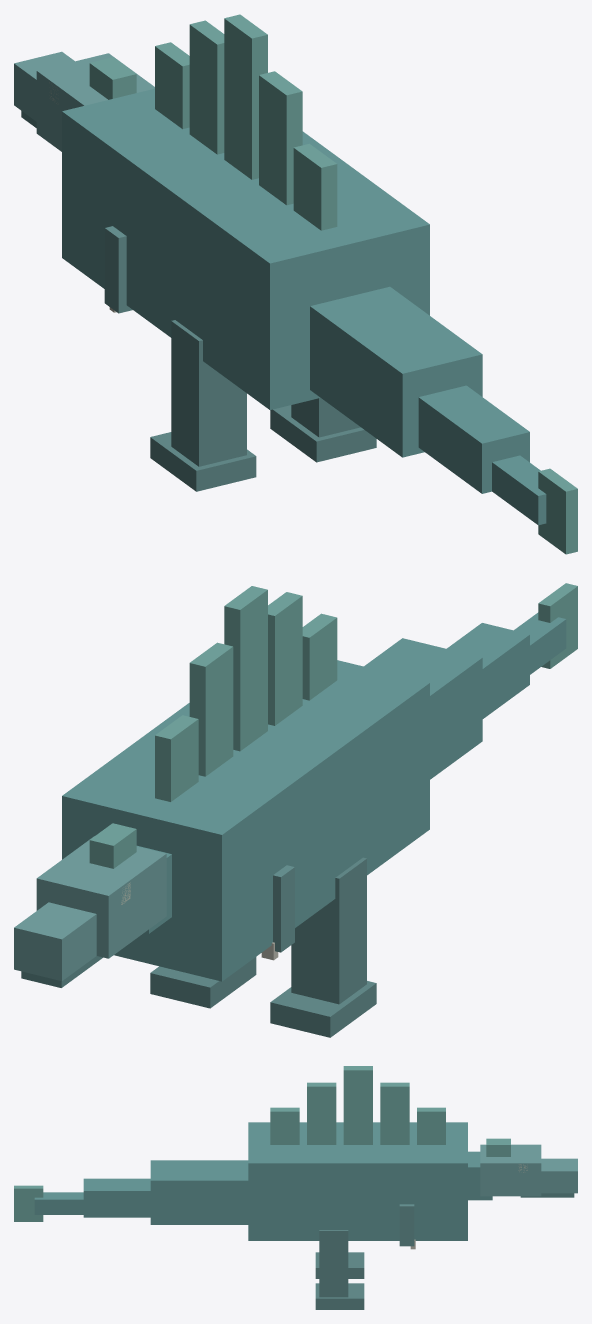
The model's file is spinosaurus.glb.
The picture shows the model from 3 angles, top to bottom: view 1: azimuth 30°, elevation 25°; view 2: azimuth 150°, elevation 25°; view 3: azimuth 270°, elevation 25°; orthographic projection. The views are drawn at different scales.
Visible parts, largest first — view 1: Dinosaur; view 2: Dinosaur; view 3: Dinosaur.
Boxes of the visible parts, box(x1,y1,x2,y2) form: Dinosaur: box(14, 14, 577, 554); Dinosaur: box(14, 583, 577, 1037); Dinosaur: box(14, 1066, 577, 1309).
Bounding box in the file's own units: 0.9 × 1.97 × 4.62.
